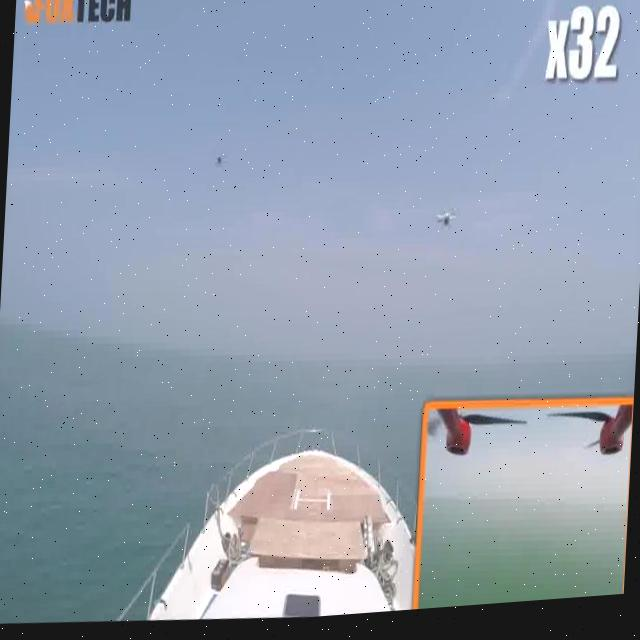drone: (431, 194, 470, 243), (209, 137, 233, 177)
